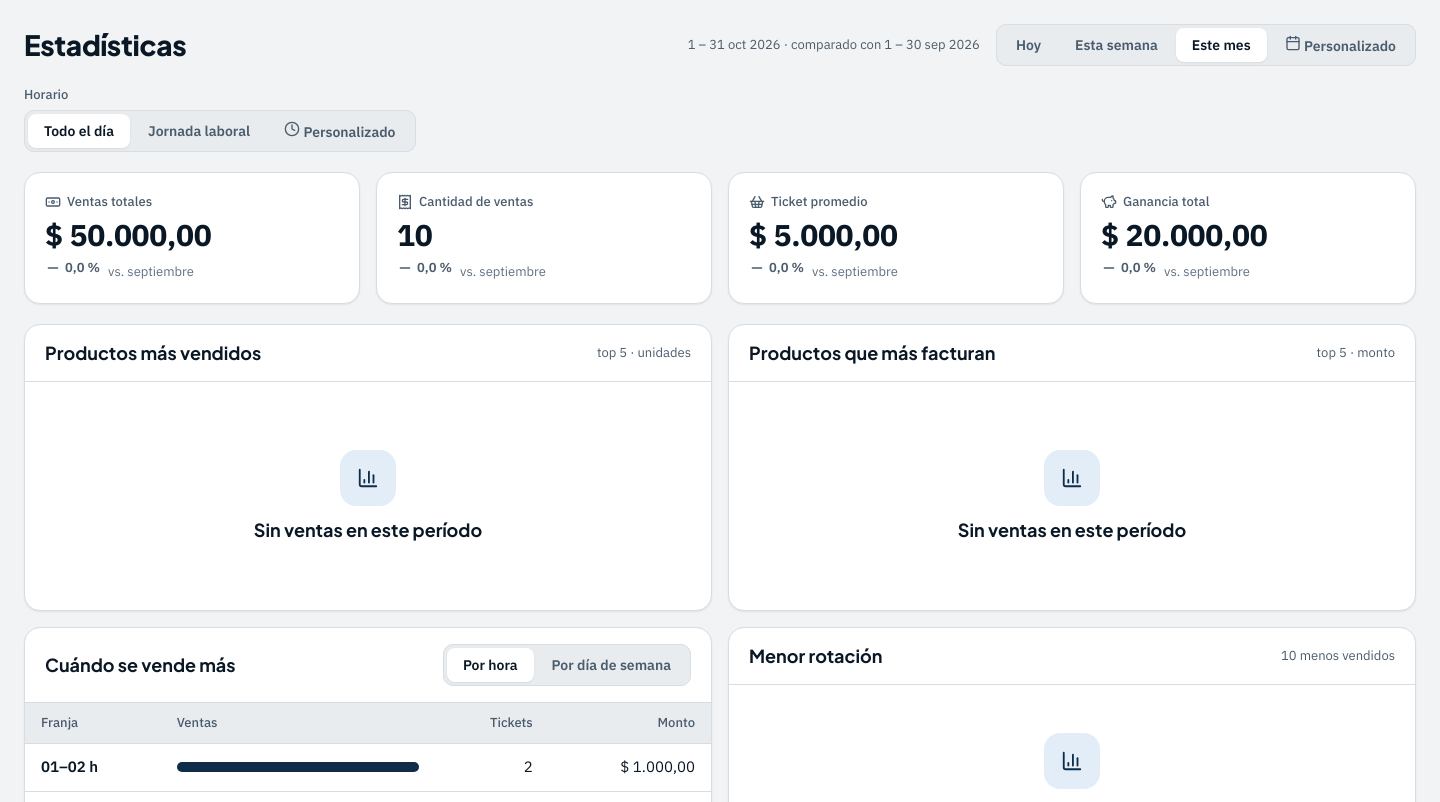
Test: Stats — filtro horario: jornada laboral › 14. usa la jornada guardada
Click the tab "Jornada laboral".
click(199, 131)  # box [132,114,266,148]
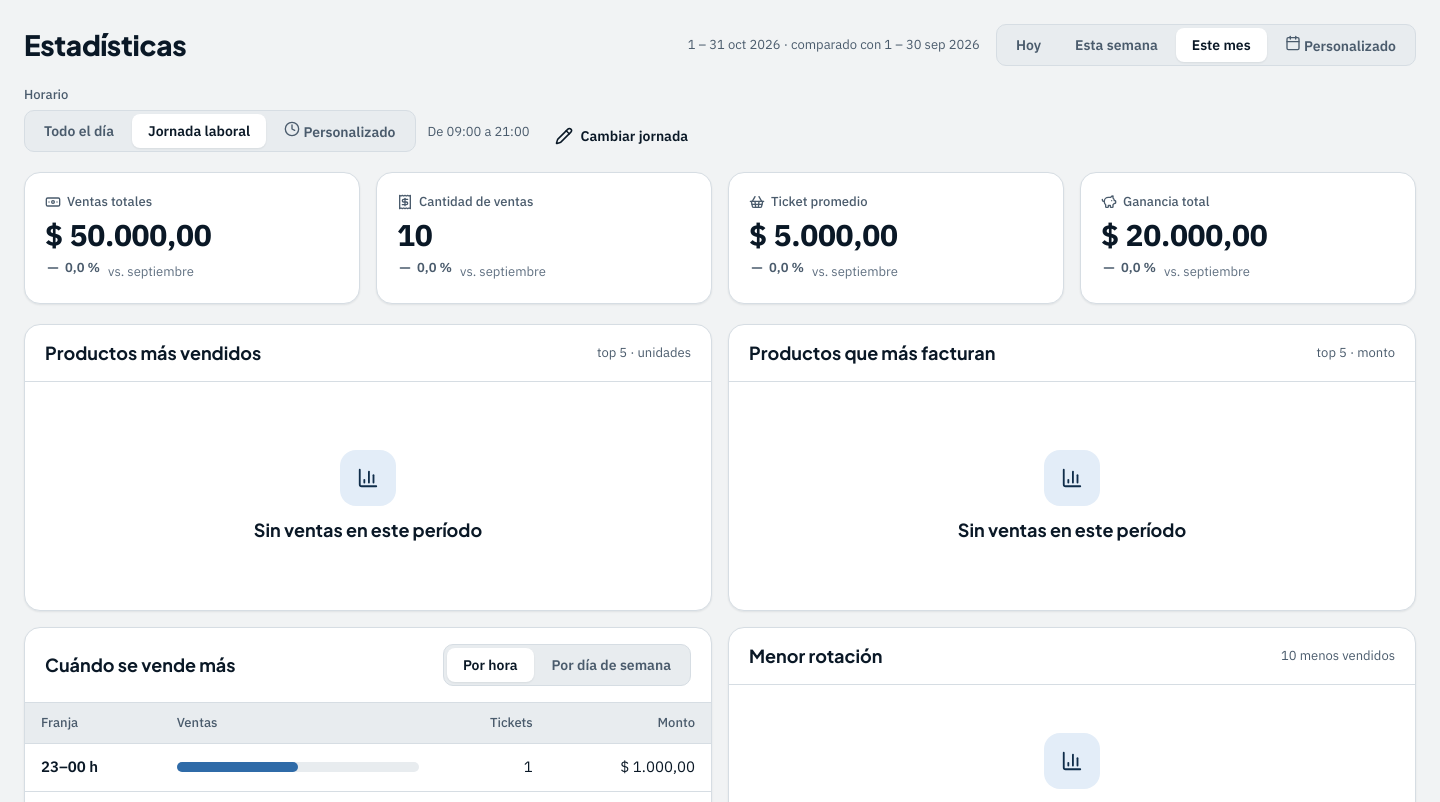
expect the text "De 09:00 a 21:00" is shown: met, box [428,123,530,140]
